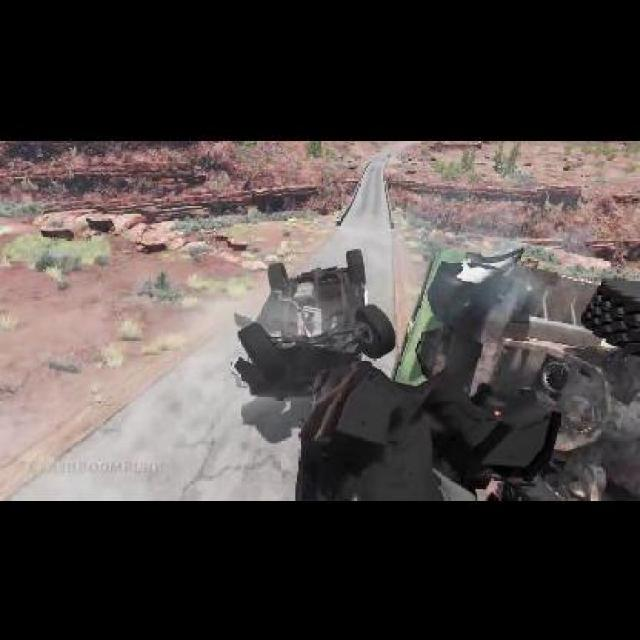accident: (228, 246, 400, 397)
